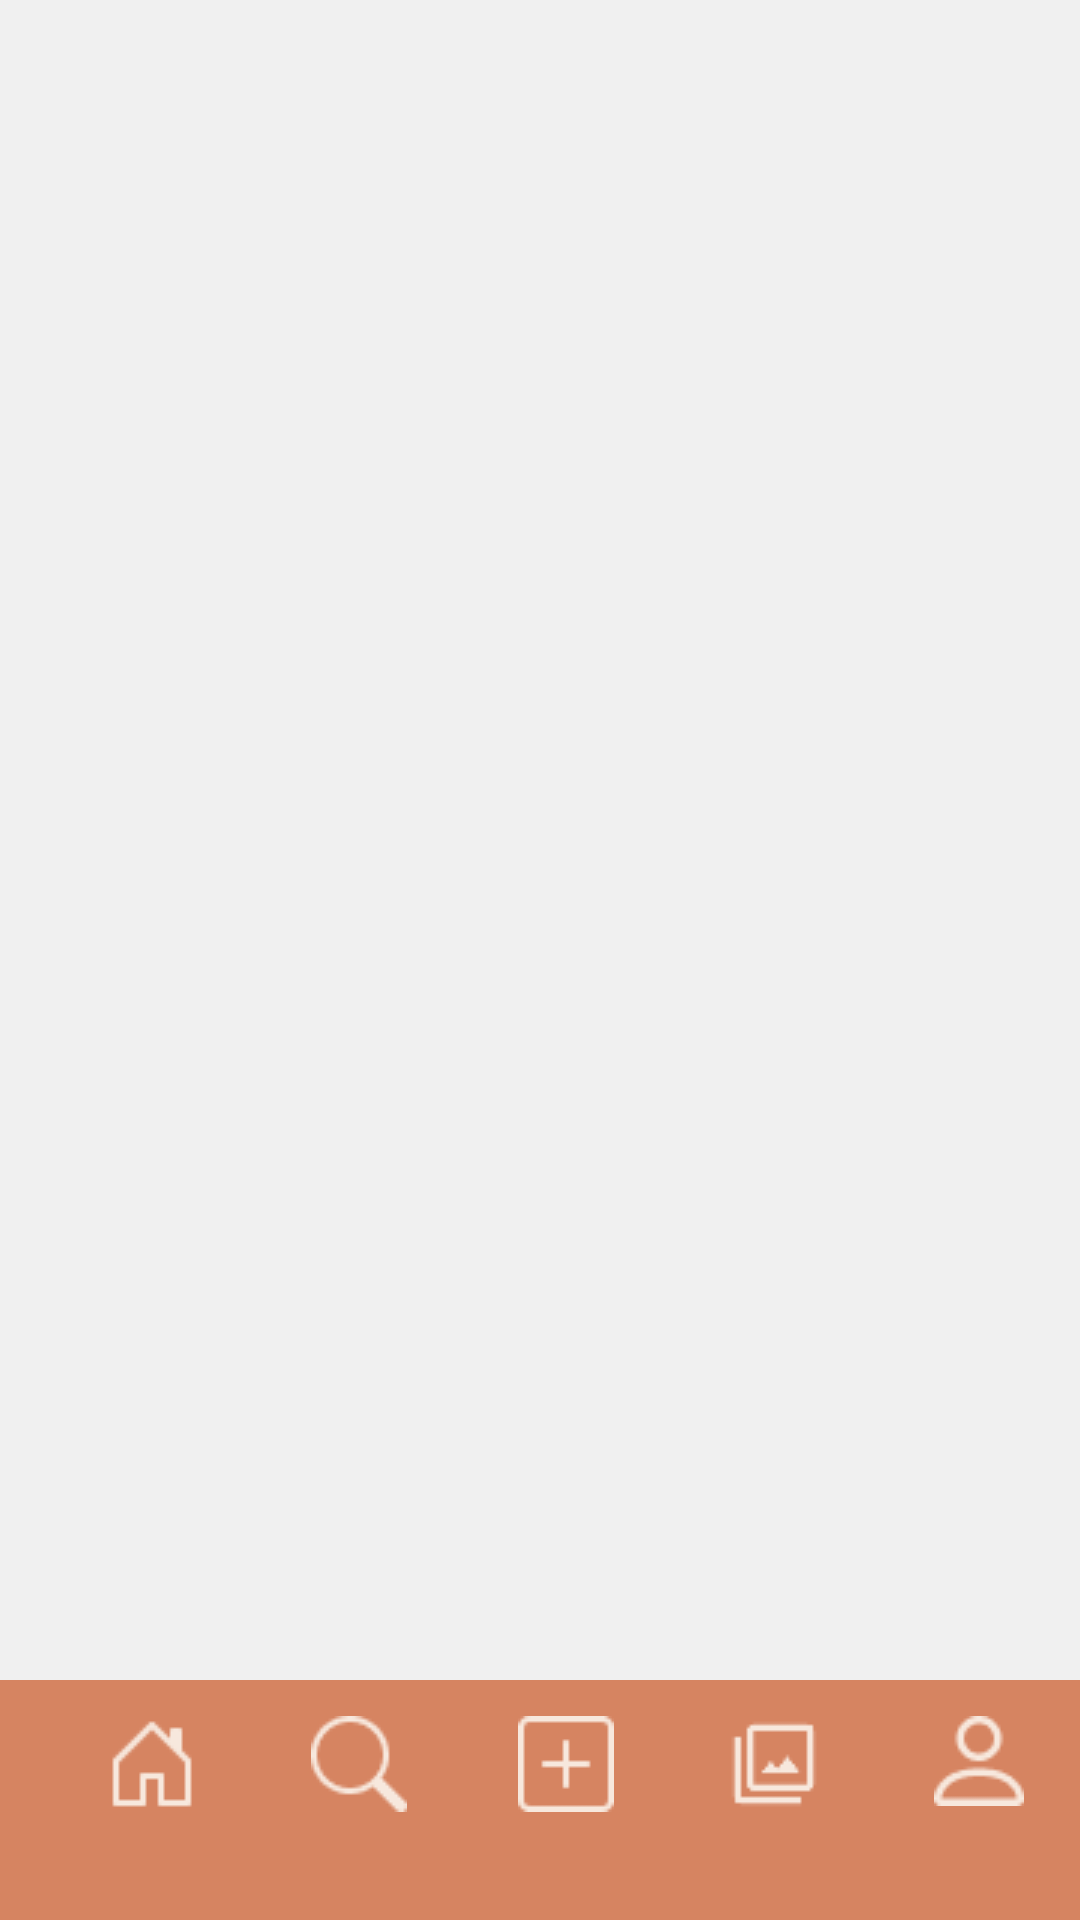

Named icons in this screenshot (1080w x 1920h) and their centers, (x=x, y=y):
house: (x=152, y=1764)
person: (x=979, y=1761)
plus square: (x=566, y=1764)
search: (x=359, y=1764)
